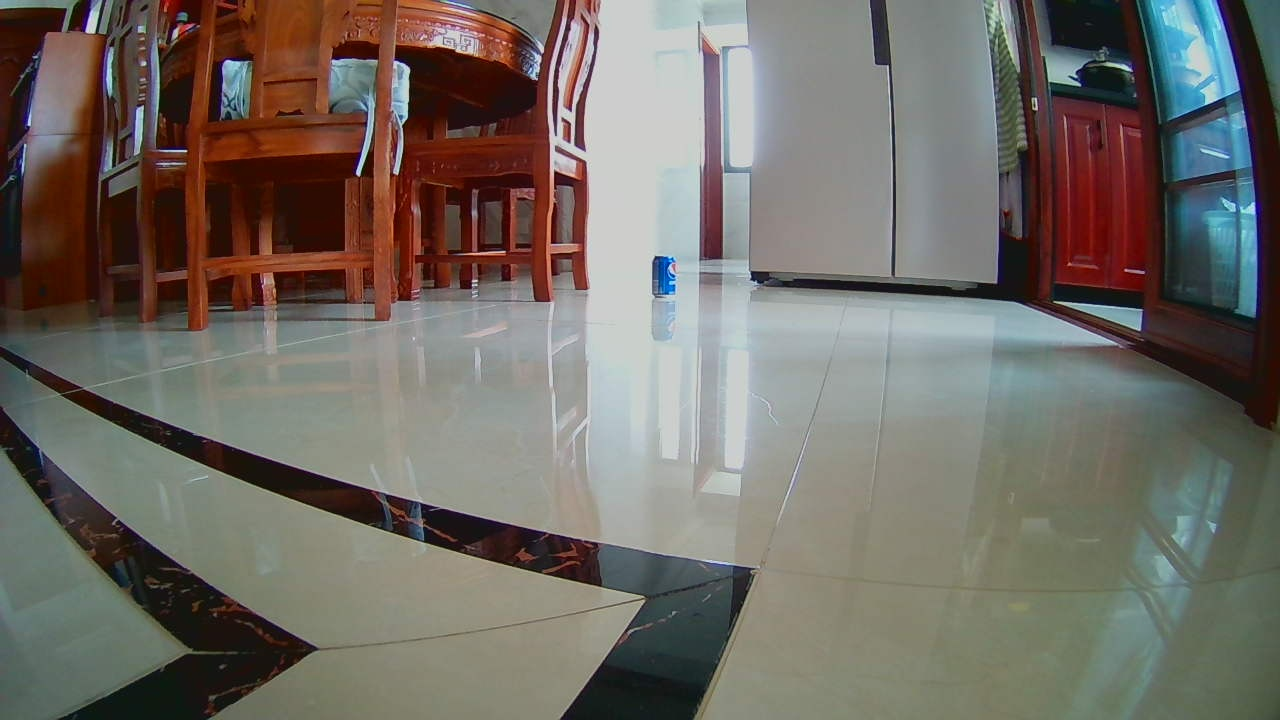pessi: (650, 254, 677, 301)
